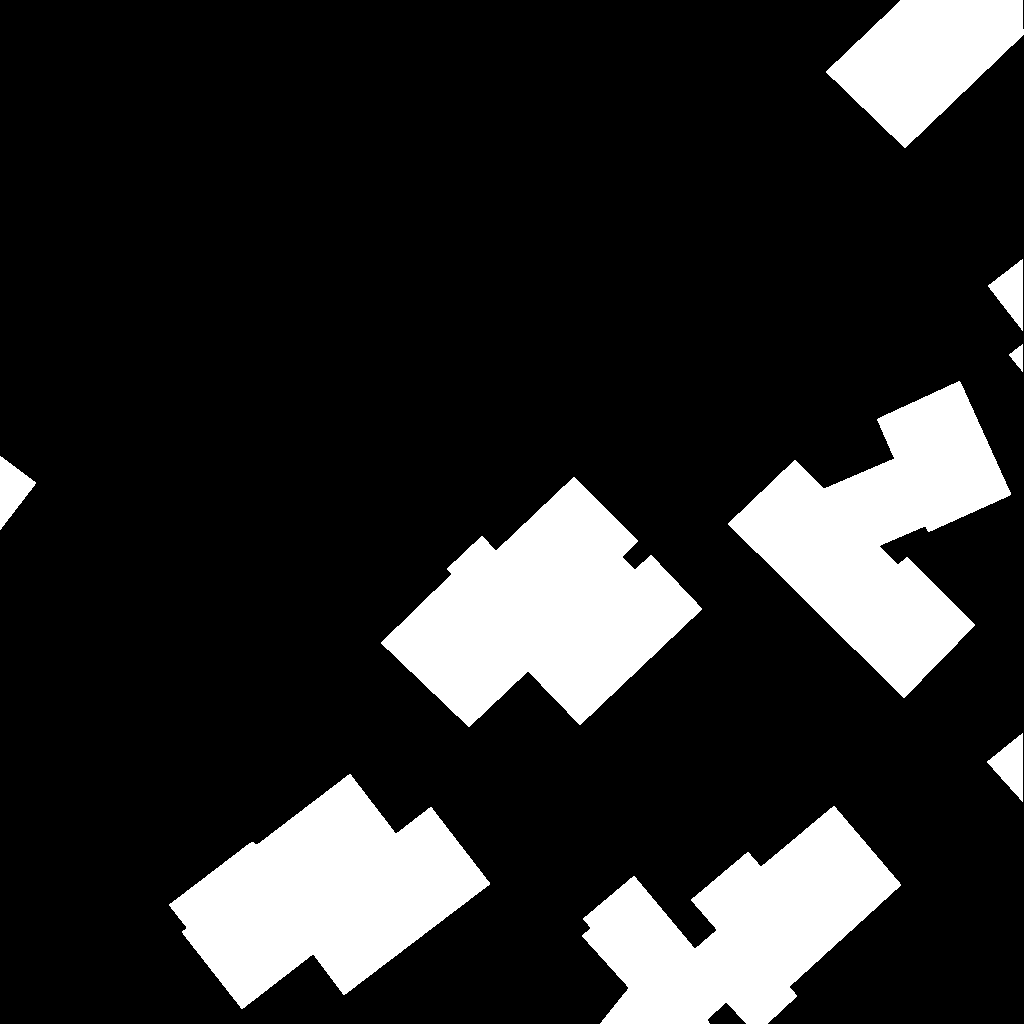building: (728, 381, 1012, 699), (381, 477, 703, 728), (169, 774, 491, 1010), (582, 806, 902, 1024), (826, 0, 1024, 149), (988, 259, 1024, 373), (0, 456, 37, 531), (987, 733, 1024, 803)
